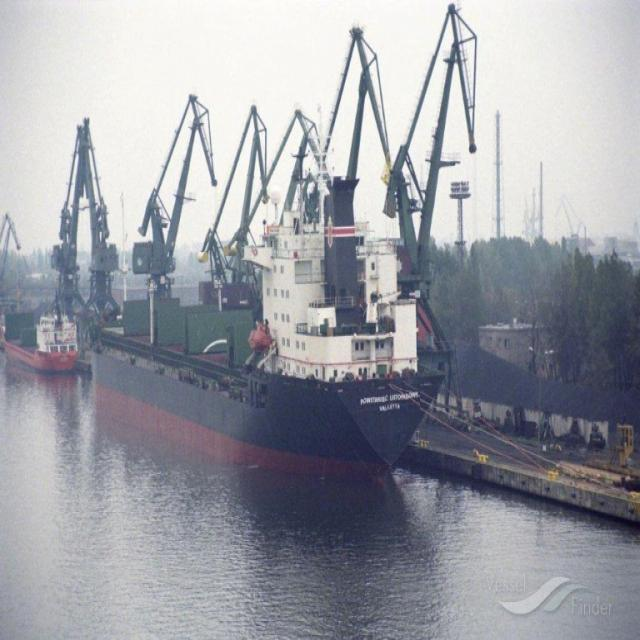OCR: (352, 390, 420, 421)
